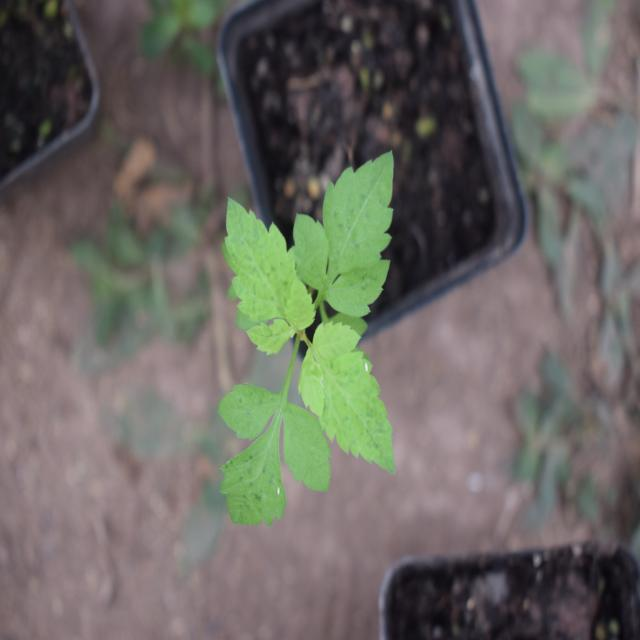Bidens pilosa: (193, 130, 406, 542)
